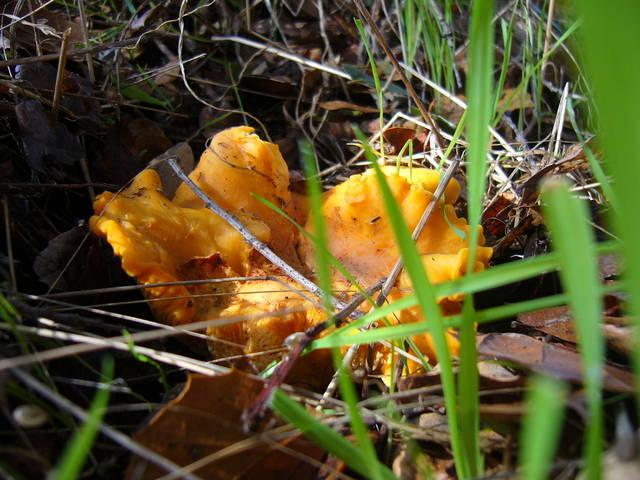Edible Mushroom: (88, 123, 493, 390)
